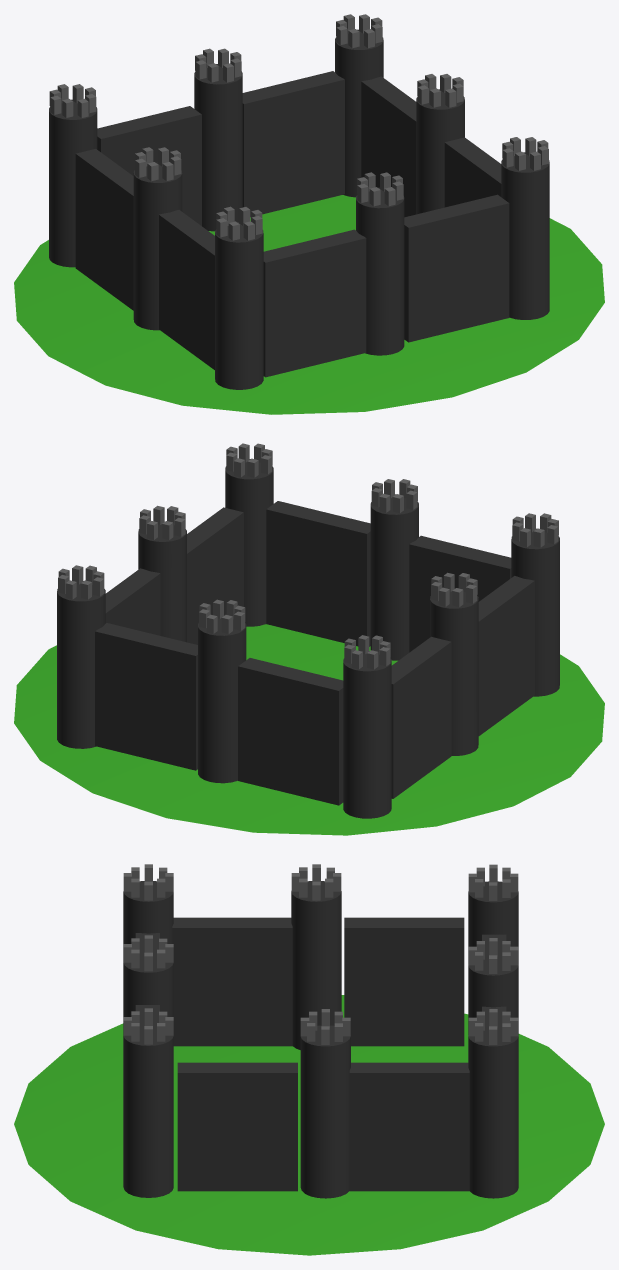
Rendered from CastleSize2.fbx.
3 views of the same model, one above another, from view 1: azimuth 30°, elevation 25°; view 2: azimuth 150°, elevation 25°; view 3: azimuth 270°, elevation 25° (orthographic). The views are drawn at different scales.
Parts seen in each view (by area): view 1: pCone1, pCube37, pCube12, pCube116, pCube54, pCylinder3, pCube10, pCylinder5, pCylinder4, pCylinder12, pCube115, pCube117 (+5 smaller); view 2: pCone1, pCube117, pCube37, pCube116, pCube54, pCube10, pCylinder13, pCylinder12, pCylinder11, pCylinder4, pCube126, pCube12 (+5 smaller); view 3: pCone1, pCube126, pCube115, pCube10, pCube54, pCylinder5, pCylinder10, pCylinder11, pCylinder1, pCylinder13, pCylinder4, pCylinder12 (+1 smaller).
Boxes of the visible parts, x1,y1,x2,y2 form: pCone1: (14,195,604,414); pCube37: (404,194,509,342); pCube12: (263,229,366,377); pCube116: (242,71,344,217); pCube54: (75,149,133,310); pCylinder3: (215,222,263,389); pCube10: (159,210,214,369); pCylinder5: (501,152,549,319); pCylinder4: (356,187,404,355); pCylinder12: (194,64,242,231); pCube115: (361,76,416,217); pCube117: (97,106,201,225); pCone1: (14,624,604,835); pCube117: (238,658,343,805); pCube37: (266,501,370,646); pCube116: (95,623,197,770); pCube54: (391,636,451,798); pCube10: (478,576,534,735); pCylinder13: (343,651,391,818); pCylinder12: (198,615,246,783); pCylinder11: (57,581,105,748); pCylinder4: (370,494,418,660); pCube126: (187,507,243,644); pCube12: (409,535,511,652); pCone1: (14,995,604,1255); pCube126: (177,1062,297,1191); pCube115: (349,1062,469,1191); pCube10: (172,917,292,1046); pCube54: (344,917,464,1046); pCylinder5: (123,1025,173,1197); pCylinder10: (300,1025,350,1198); pCylinder11: (468,1025,518,1198); pCylinder1: (291,881,341,1049); pCylinder13: (468,881,518,964); pCylinder4: (123,952,173,1034); pCylinder12: (468,954,518,1034).
Bounding box in the file's own units: 7.42 × 2.3 × 7.05.
